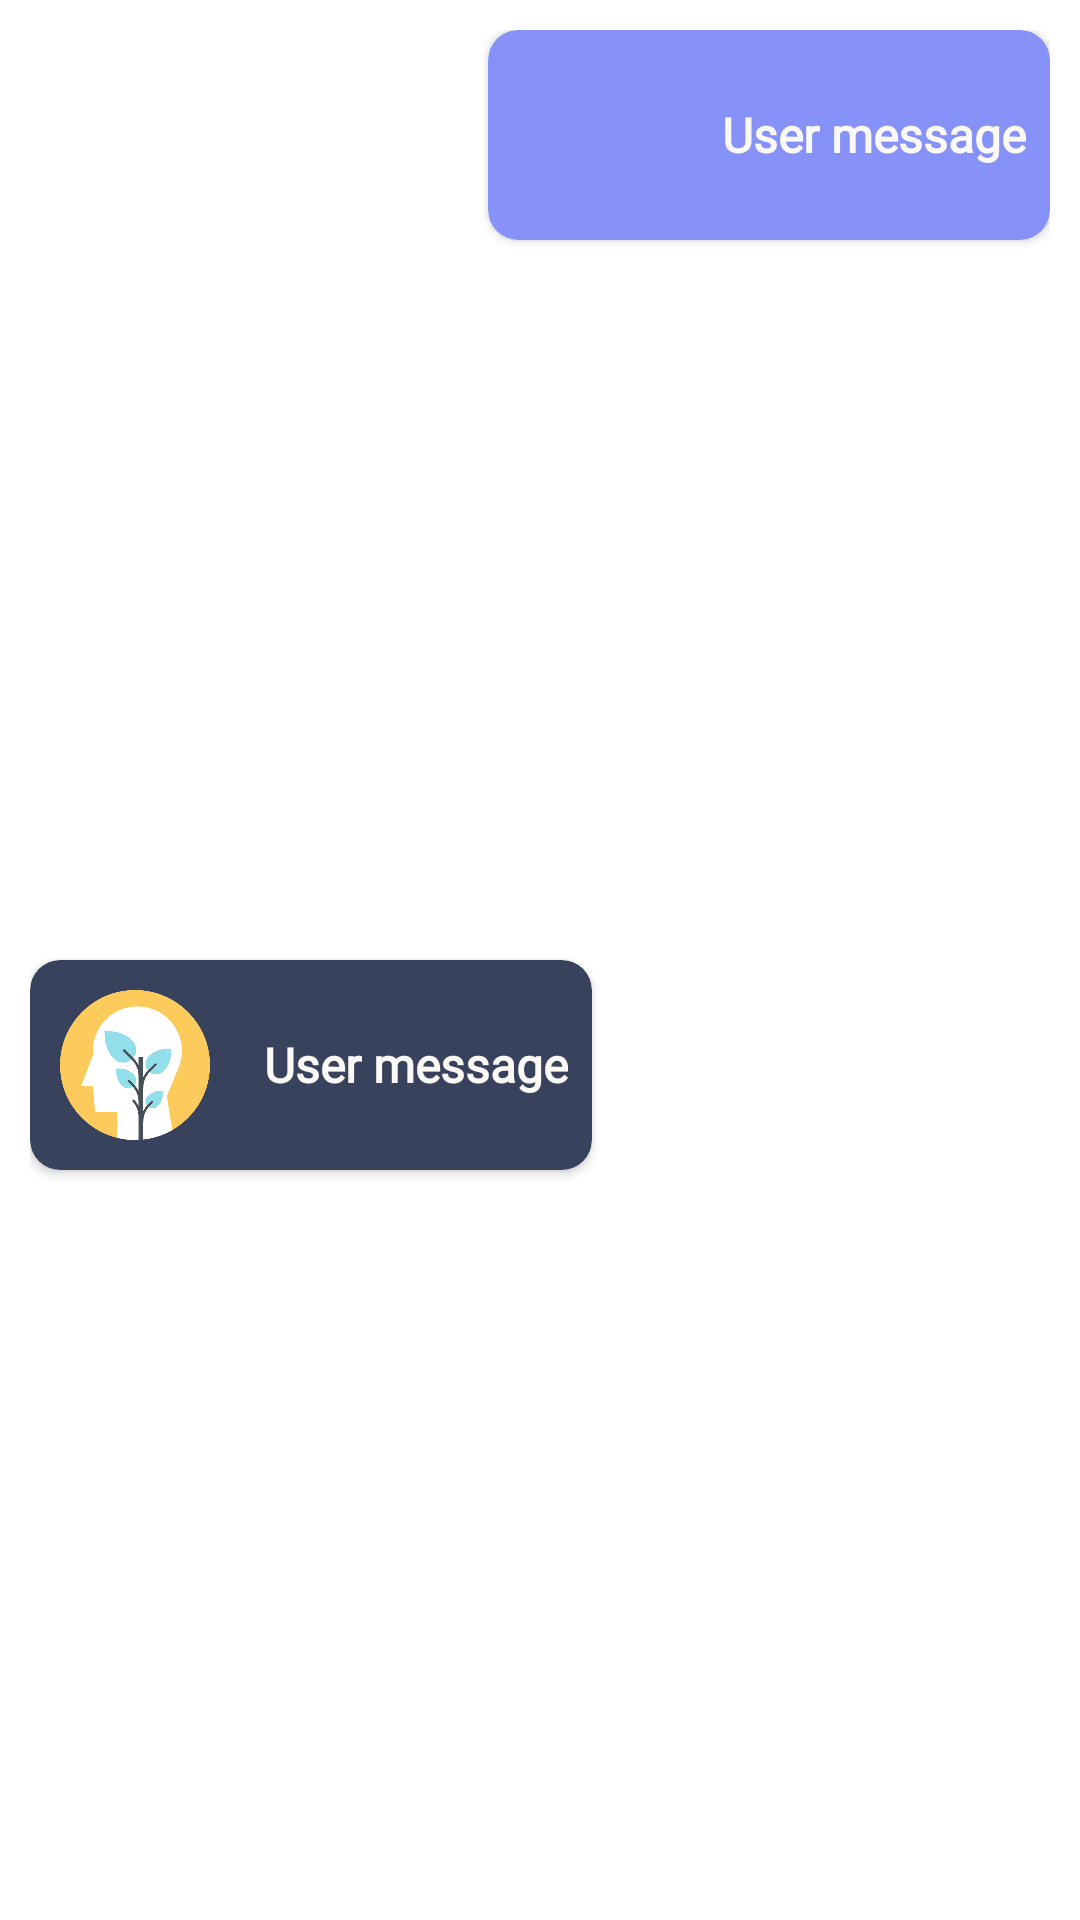

Icon bounding boxes for this 1080 x 1920 phone screenshot, format (x1, y1, x2, y2):
growth: (60, 990, 210, 1140)
